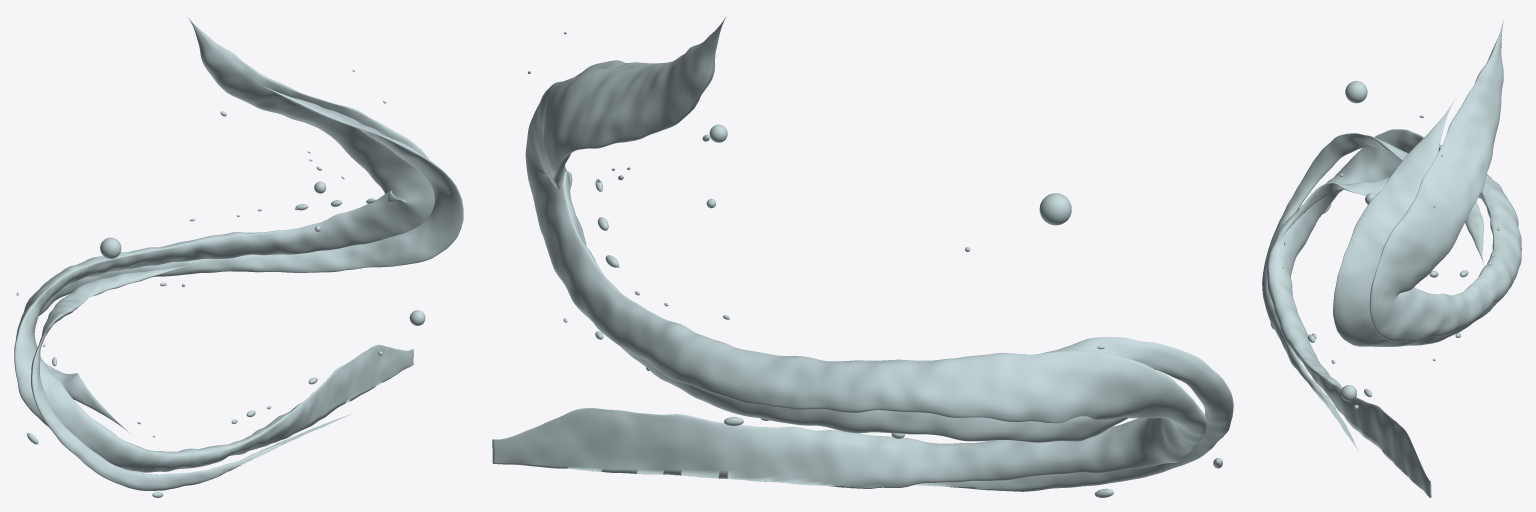
File: aura-liquid.glb
3 views of the same model, side by side, from view 1: azimuth 30°, elevation 25°; view 2: azimuth 150°, elevation 25°; view 3: azimuth 270°, elevation 25° (orthographic). The views are drawn at different scales.
Visible parts, largest first — view 1: Liquid Main, Liquid Sheet A, Liquid Sheet B; view 2: Liquid Main, Liquid Sheet A, Liquid Sheet B, Bubble 0; view 3: Liquid Main, Liquid Sheet A, Liquid Sheet B, Bubble 0.
Part boxes in pixels (box(x1,y1,x2,y2)): Liquid Main: box(14, 17, 434, 472); Liquid Sheet A: box(38, 83, 463, 432); Liquid Sheet B: box(31, 265, 353, 490); Liquid Main: box(492, 17, 1206, 488); Liquid Sheet A: box(575, 60, 1127, 442); Liquid Sheet B: box(915, 337, 1233, 491); Bubble 0: box(1039, 193, 1071, 225); Liquid Main: box(1266, 18, 1521, 497); Liquid Sheet A: box(1278, 100, 1513, 346); Liquid Sheet B: box(1262, 133, 1483, 451); Bubble 0: box(1345, 81, 1367, 103).
Size of the model in its own units: 3.56 by 2.87 by 1.75.
